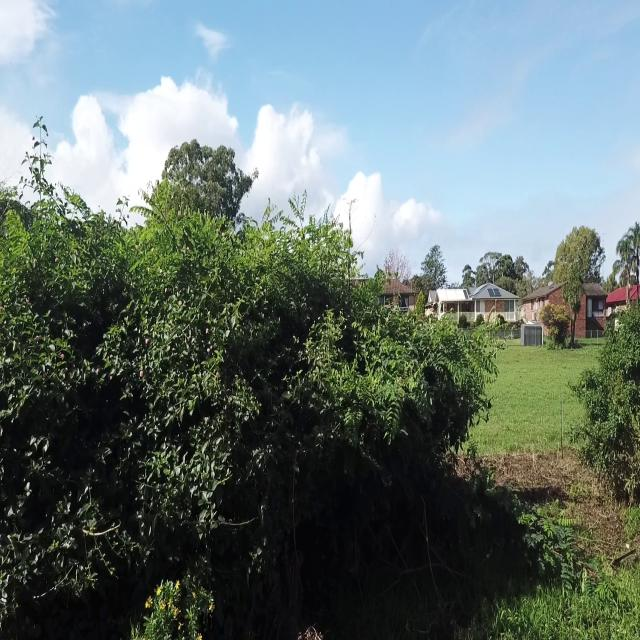Mysore-Thorn-Weed: (506, 500, 618, 605), (125, 177, 186, 270), (3, 210, 33, 269)
